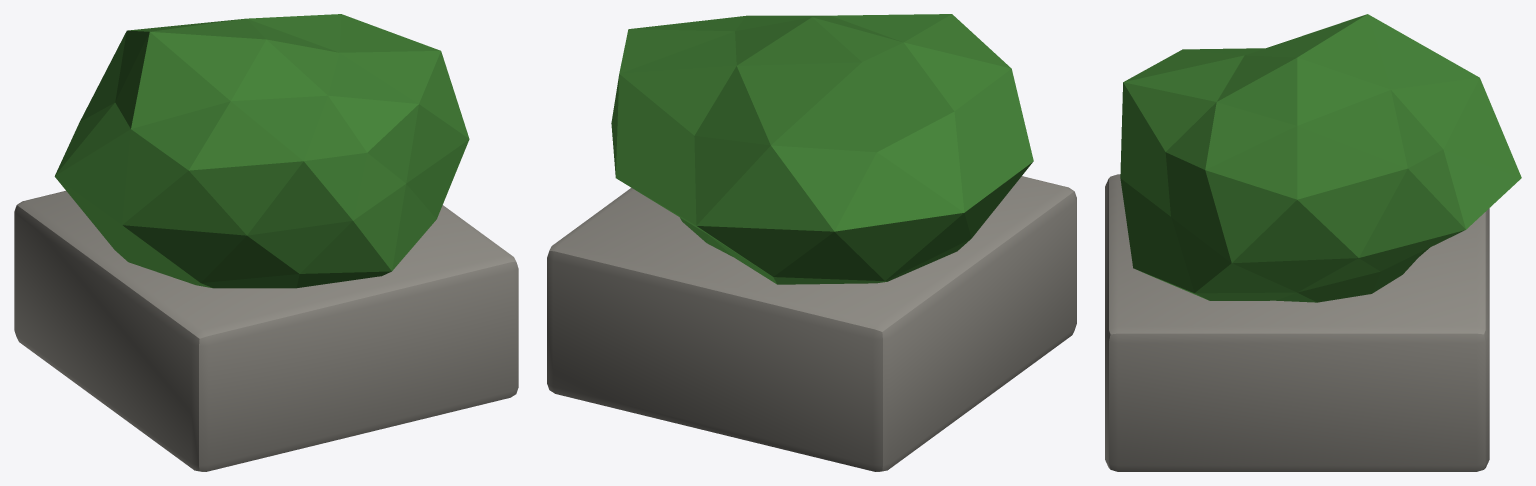
The model's file is planter.glb.
3 renders of one model, left to right at view 1: azimuth 30°, elevation 25°; view 2: azimuth 150°, elevation 25°; view 3: azimuth 270°, elevation 25°, orthographic. The views are drawn at different scales.
Parts seen in each view (by area): view 1: planter; view 2: planter; view 3: planter.
Boxes of the visible parts, x1,y1,x2,y2 form: planter: [14, 14, 518, 471]; planter: [547, 14, 1076, 471]; planter: [1105, 14, 1521, 471].
Size of the model in its own units: 1.3 by 1.17 by 1.3.
